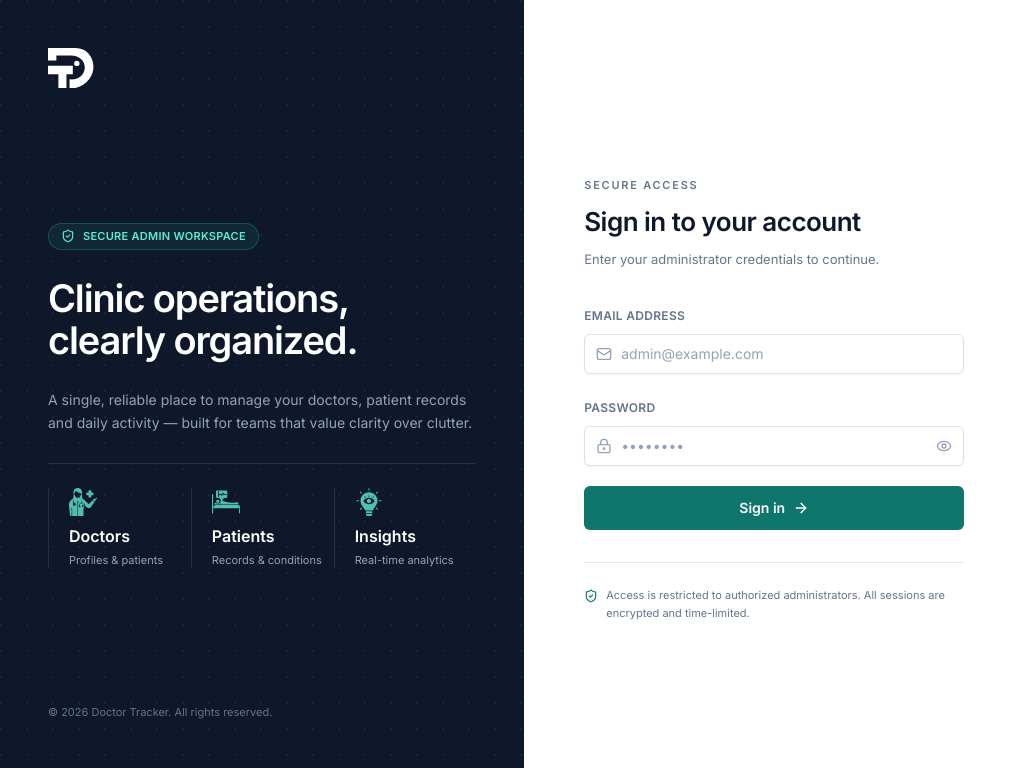
it: Login behavior › shows validation errors for empty fields
Click the button "Sign in" at x=774, y=508, box 584,486 -> 964,530
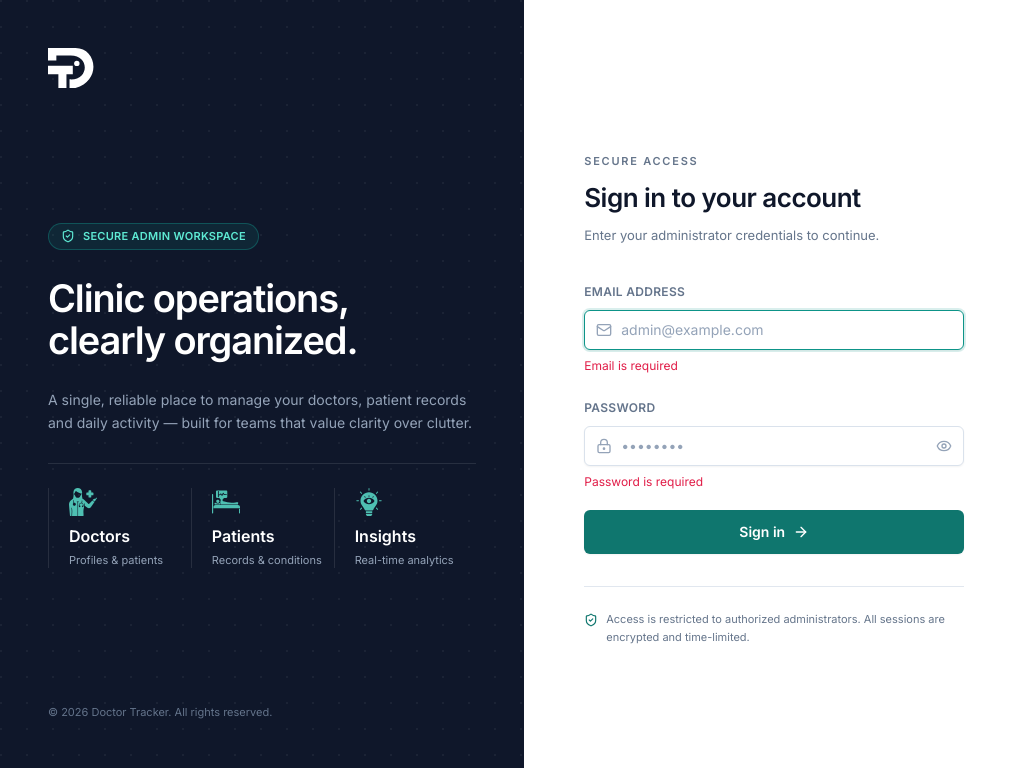
Check: the text "Email is required" is shown, box 584,358 -> 678,373
Check: the text "Password is required" is shown, box 584,474 -> 703,489
